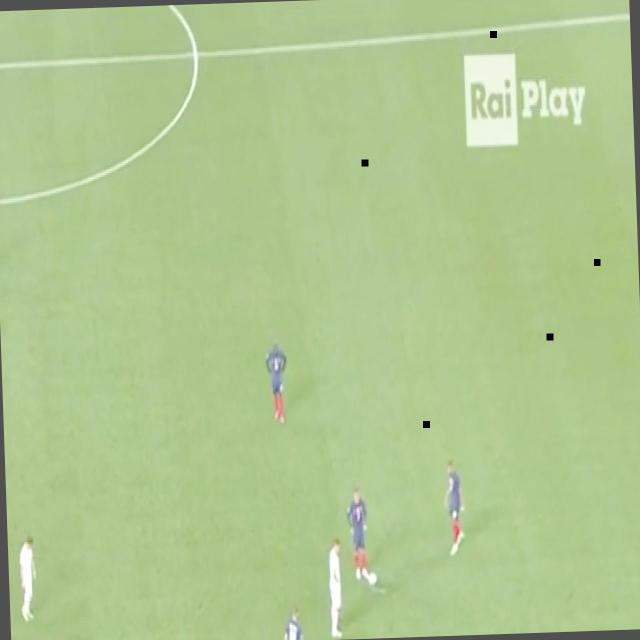ball: (368, 568, 379, 590)
player-white: (438, 453, 469, 563), (343, 483, 375, 588), (322, 532, 348, 640), (261, 336, 289, 428), (15, 532, 39, 628), (279, 607, 306, 640), (204, 637, 233, 640), (23, 637, 44, 640)
